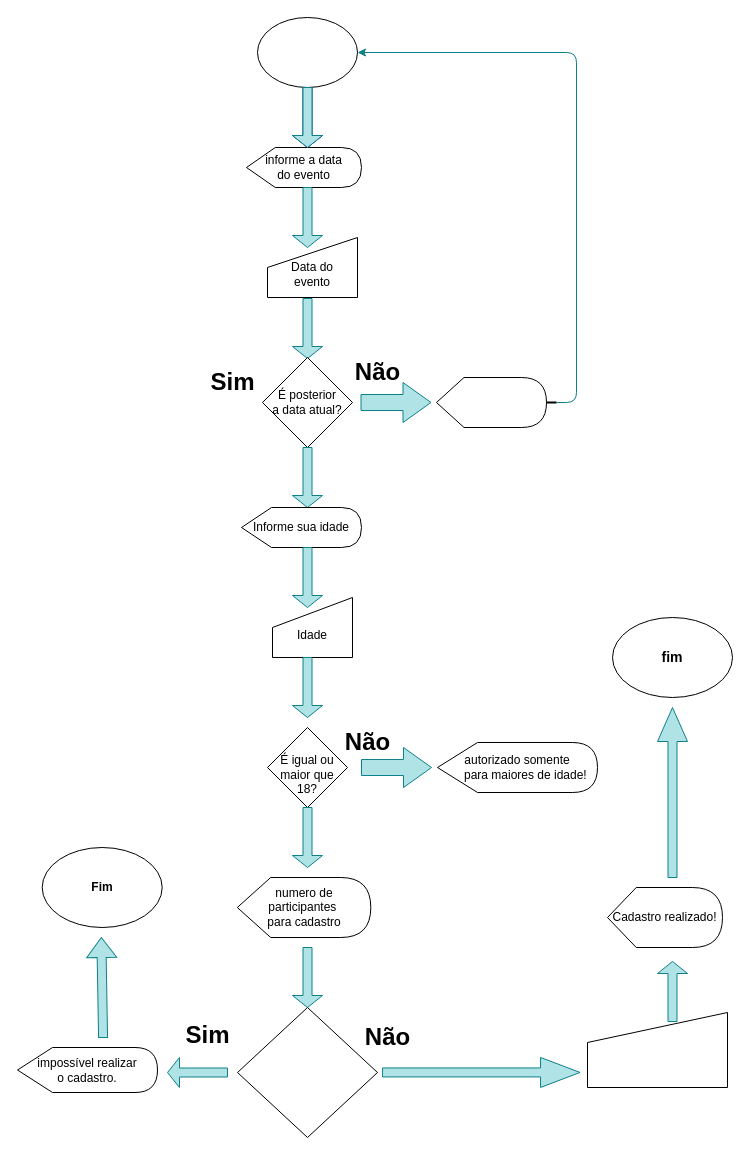
Some shapes in this 750 by 1155 pixel diagram are drawn without their labels. The shapes that lost their labels are listed below. From the top down, each one's centre as x and y in pixels, then its label:
At point 307,52: "inicio".
At point 491,402: "impossível realizar o cadastro".
At point 657,1050: "Dados para cadastro".
At point 307,1072: "É maior que 100 a quantidade de participantes?".
